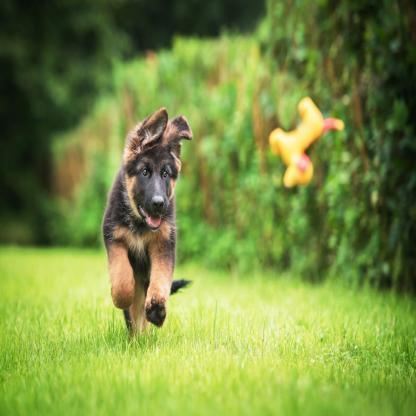dog: (98, 112, 192, 349)
